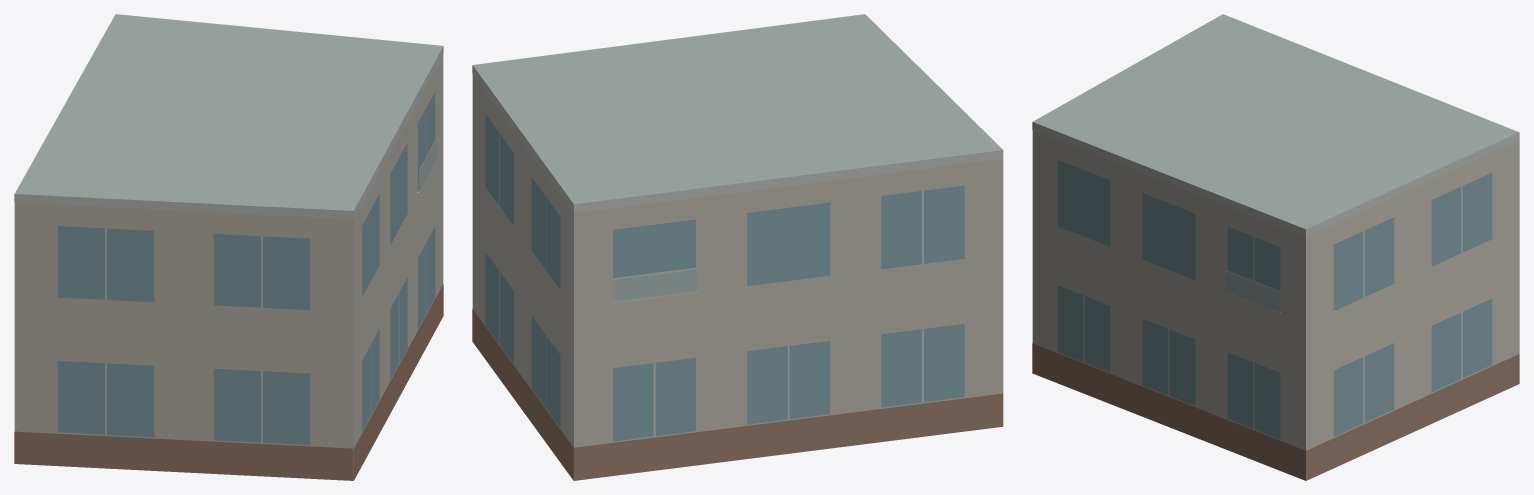
The model's file is survey-upis-32842143.glb.
3 renders of one model, left to right at view 1: azimuth 30°, elevation 25°; view 2: azimuth 150°, elevation 25°; view 3: azimuth 270°, elevation 25°, orthographic. The views are drawn at different scales.
Parts seen in each view (by area): view 1: survey-upis-32842143.tmp; view 2: survey-upis-32842143.tmp; view 3: survey-upis-32842143.tmp.
Part boxes in pixels (x1,y1,x2,y2): survey-upis-32842143.tmp: (14, 14, 443, 480); survey-upis-32842143.tmp: (472, 14, 1003, 480); survey-upis-32842143.tmp: (1032, 14, 1519, 480).
Bounding box in the file's own units: 13.96 × 7.6 × 13.35.
